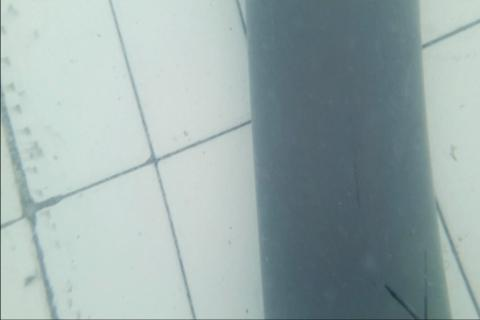keretakan: (383, 255, 435, 319)
